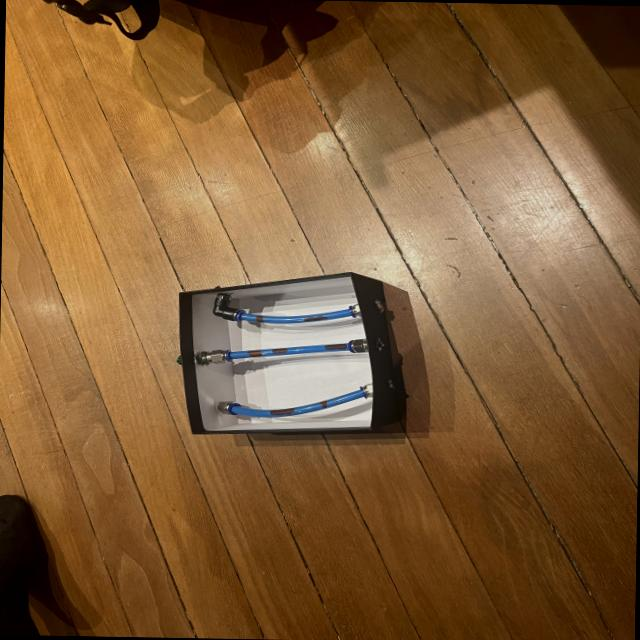hose_damage: (266, 407, 296, 416), (303, 315, 329, 322), (324, 342, 346, 350), (246, 349, 262, 358), (270, 348, 288, 353), (318, 399, 327, 409), (256, 314, 264, 324)
